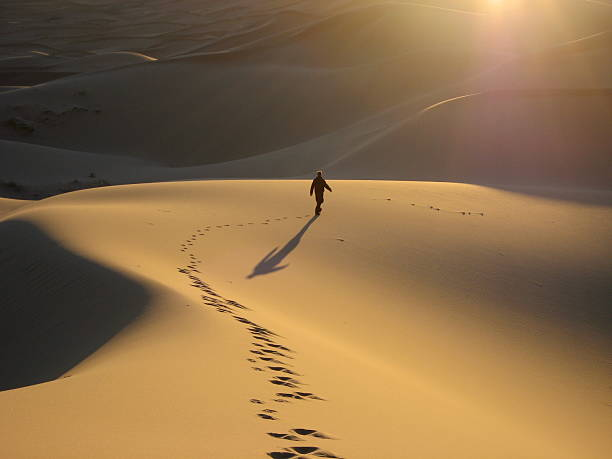human_foot_print: (179, 253, 323, 422)
